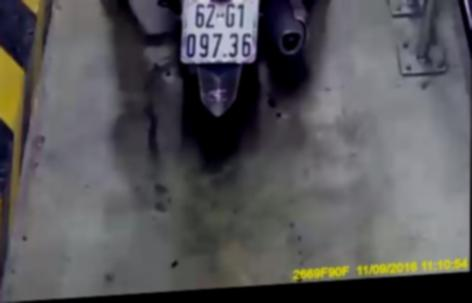License_Plate: (173, 0, 266, 77)
